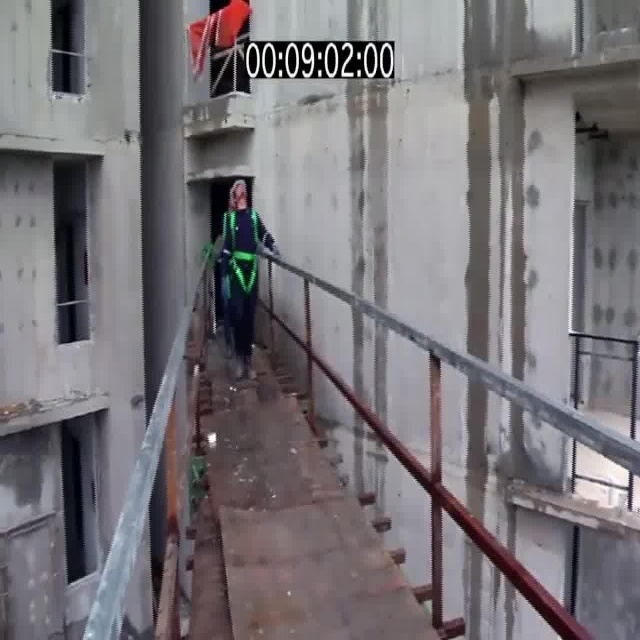Arnes_seguridad: (231, 209, 258, 288)
